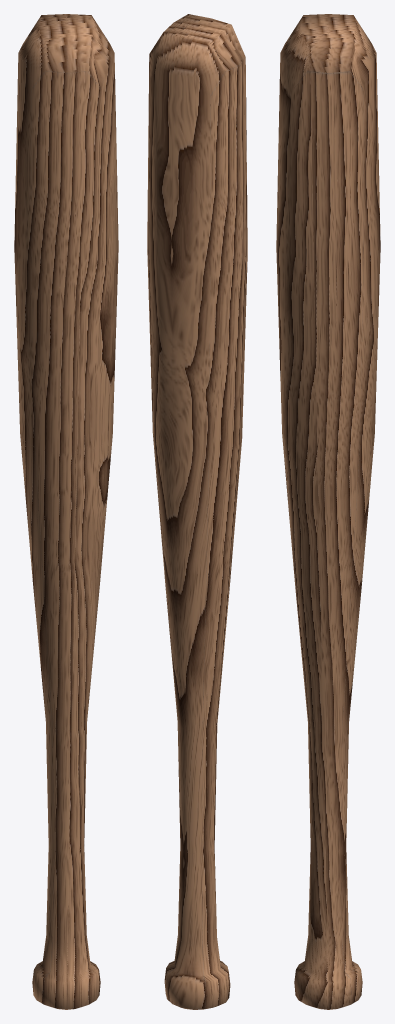
The model's file is baseball_bat.fbx.
3 views of the same model, side by side, from view 1: azimuth 90°, elevation 25°; view 2: azimuth 150°, elevation 25°; view 3: azimuth 270°, elevation 25° (orthographic).
Parts seen in each view (by area): view 1: pCube1; view 2: pCube1; view 3: pCube1.
Part boxes in pixels (x1,y1,x2,y2): pCube1: (14,14,118,1009); pCube1: (147,14,247,1009); pCube1: (276,14,380,1009).
Size of the model in its own units: 0.0952 by 0.9805 by 0.0952.
Materials: 1 (1 with a texture image).
